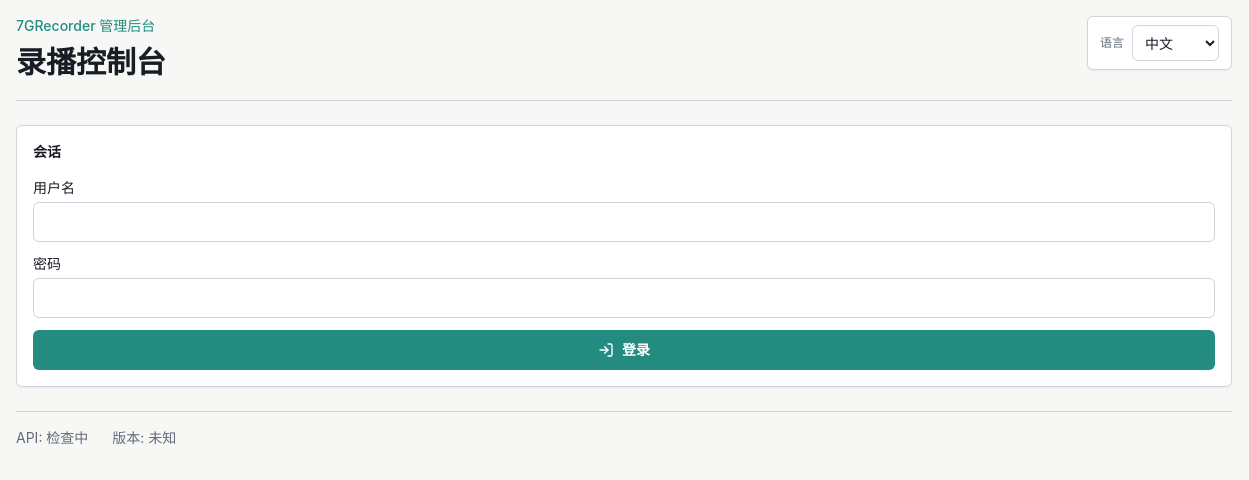
AdminDashboard › renders the current manager account and policy
Select "English" in the dropdown at (1176,43), box left=1132, top=25, right=1219, bottom=61
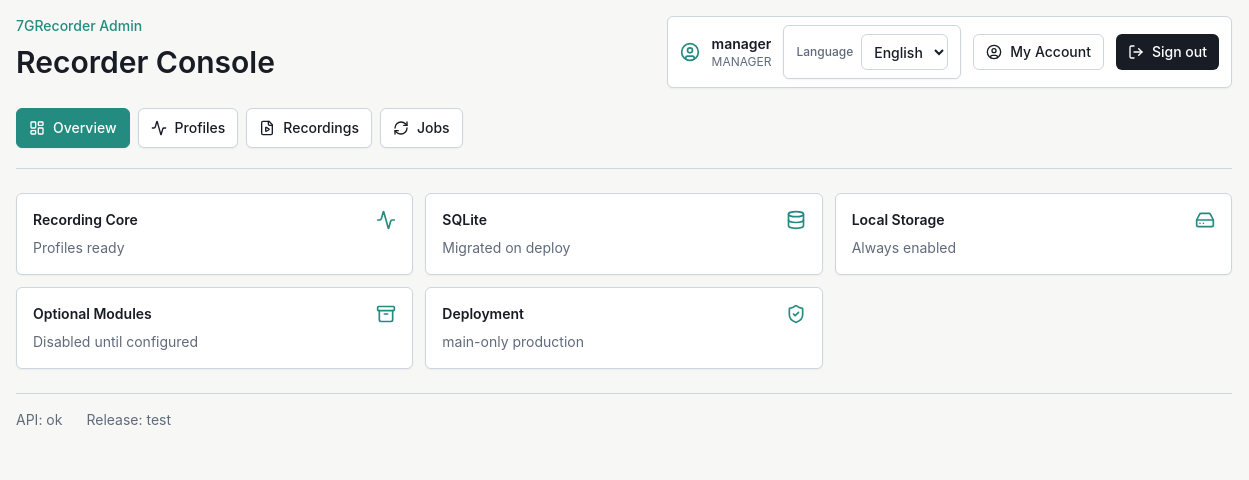
Now the heading "Recorder Console" is shown, box left=16, top=44, right=275, bottom=80
Click the button "My Account" at (1039,52), box left=973, top=34, right=1104, bottom=70
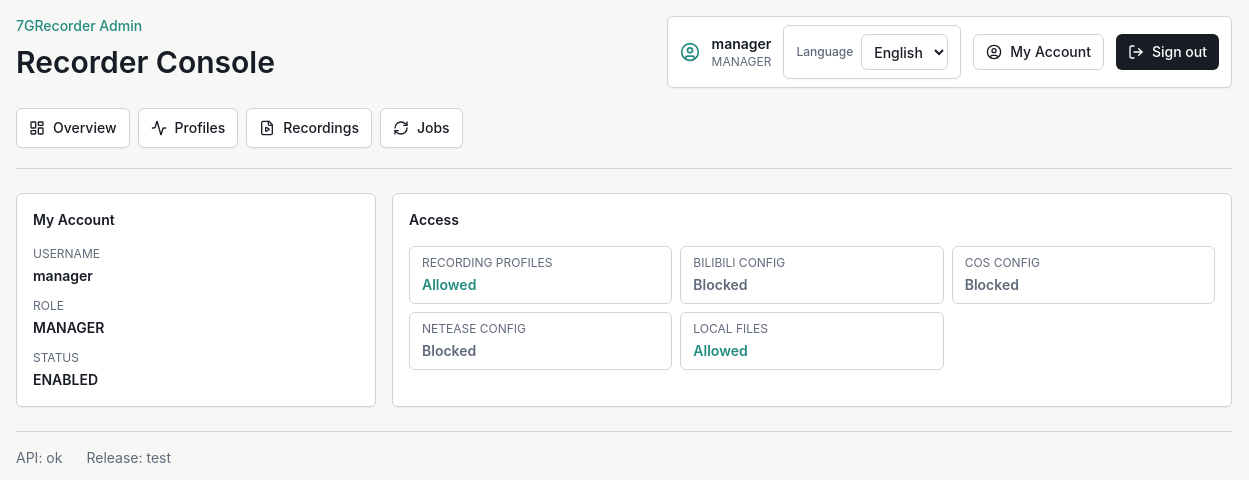
Now the heading "My Account" is shown, box left=33, top=211, right=115, bottom=228
Now the text "MANAGER" is shown 2 times, box left=712, top=54, right=771, bottom=70; left=33, top=319, right=104, bottom=336
Now the text "Recording Profiles" is shown, box left=422, top=255, right=552, bottom=270
